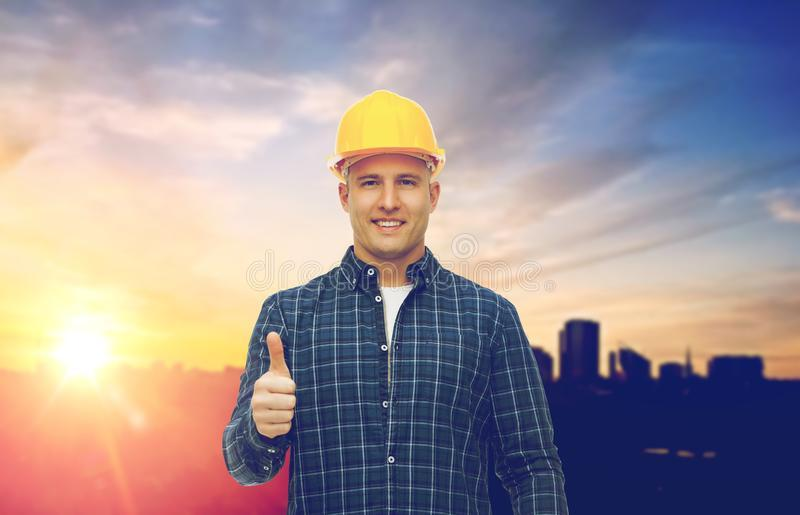helmet: (331, 88, 449, 172)
